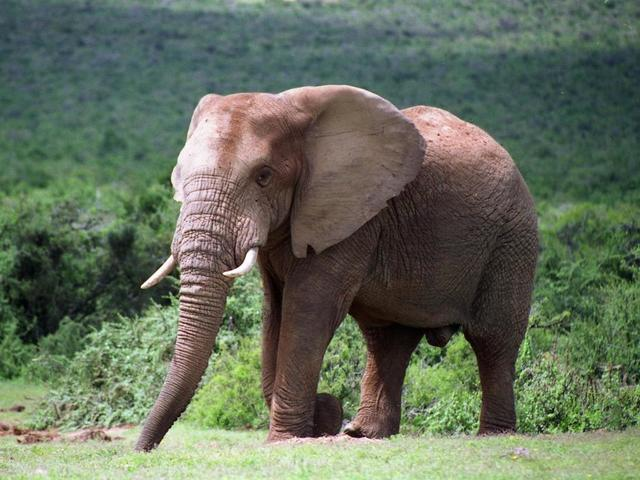elephant: (100, 24, 554, 443)
